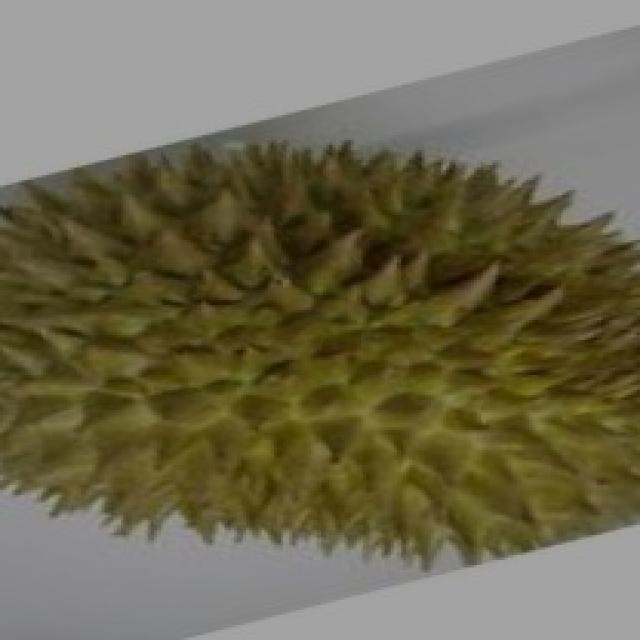fruit: (234, 250, 640, 625), (0, 195, 351, 613)
